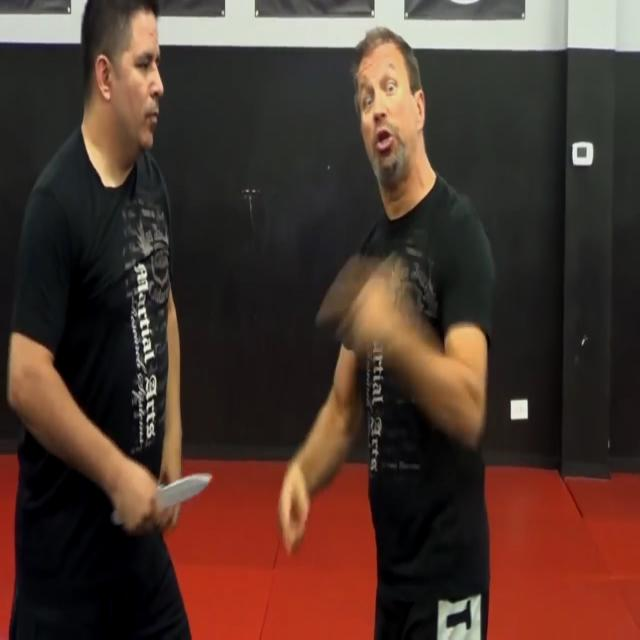knife: (158, 472, 216, 512)
